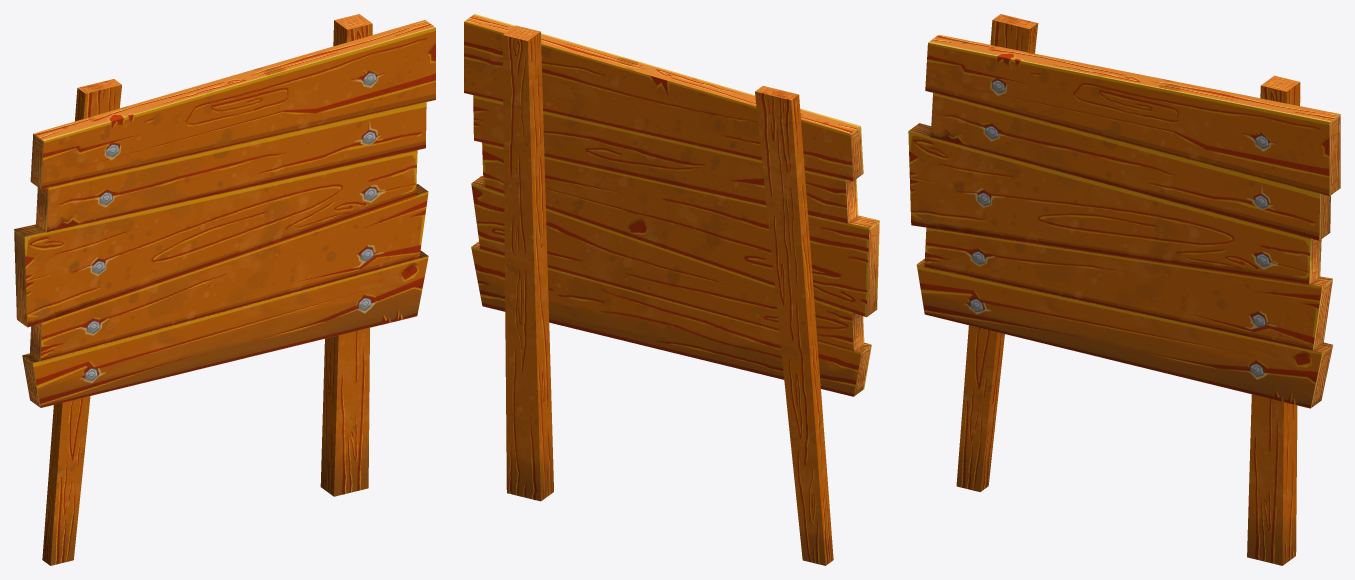
File: Plaque.fbx
3 renders of one model, left to right at view 1: azimuth 30°, elevation 25°; view 2: azimuth 150°, elevation 25°; view 3: azimuth 330°, elevation 25°, orthographic. The views are drawn at different scales.
Parts seen in each view (by area): view 1: polySurface1; view 2: polySurface1; view 3: polySurface1.
Part boxes in pixels (x1,y1,x2,y2): polySurface1: [14, 14, 435, 565]; polySurface1: [464, 14, 879, 565]; polySurface1: [908, 14, 1340, 565].
Bounding box in the file's own units: 493 × 531 × 49.63.
1 material, 1 textured.
